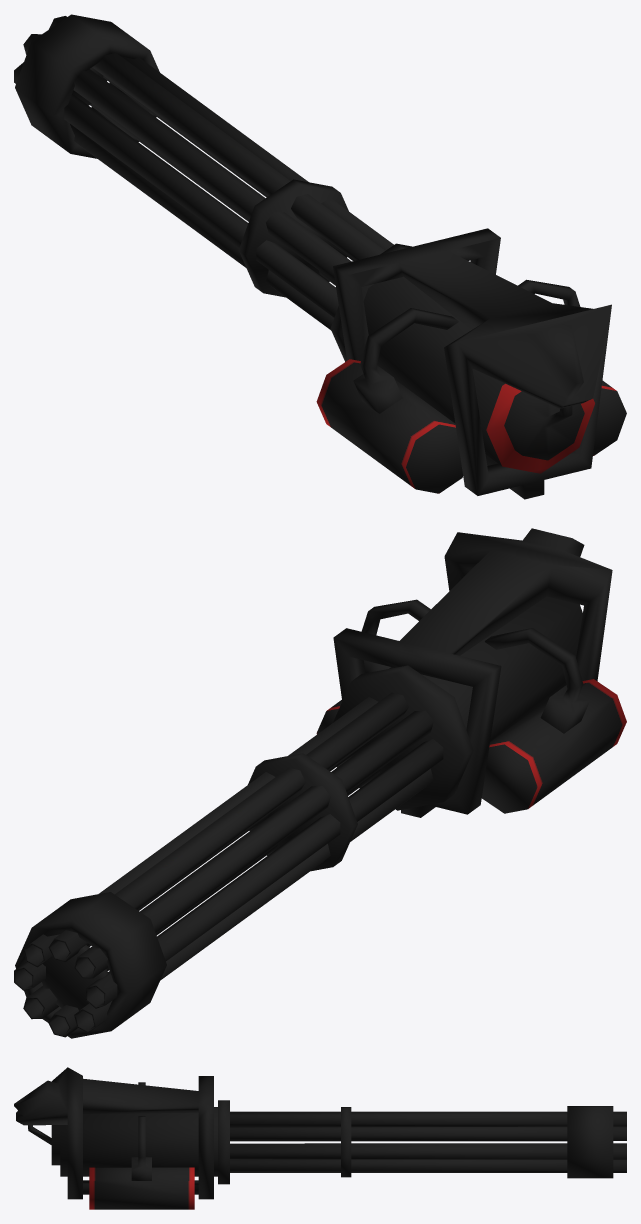
The model's file is Minigun.fbx.
3 views of the same model, one above another, from view 1: azimuth 30°, elevation 25°; view 2: azimuth 150°, elevation 25°; view 3: azimuth 270°, elevation 25° (orthographic). The views are drawn at different scales.
Parts seen in each view (by area): view 1: stock, barrel; view 2: barrel, stock; view 3: barrel, stock.
Part boxes in pixels (x1,y1,x2,y2): stock: (316,228,626,499); barrel: (14,14,411,361); barrel: (14,665,473,1038); stock: (316,528,626,817); barrel: (218,1100,626,1184); stock: (14,1067,217,1209).
Size of the model in its own units: 0.4645 by 0.3596 by 1.89.
1 material, 1 textured.
